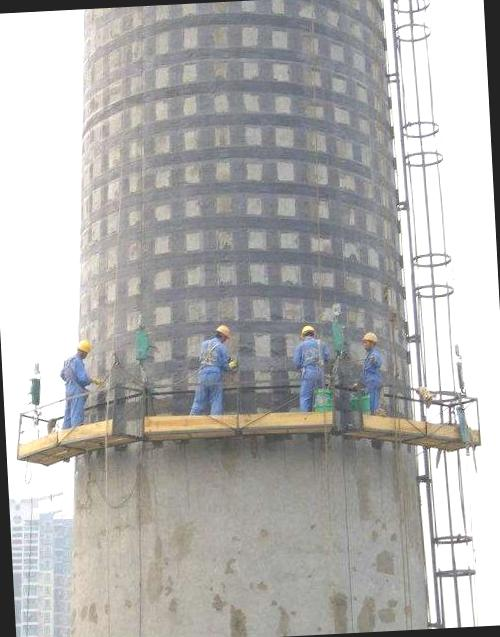person: (197, 318, 237, 419), (57, 337, 98, 433), (293, 323, 333, 414), (358, 326, 386, 414)
